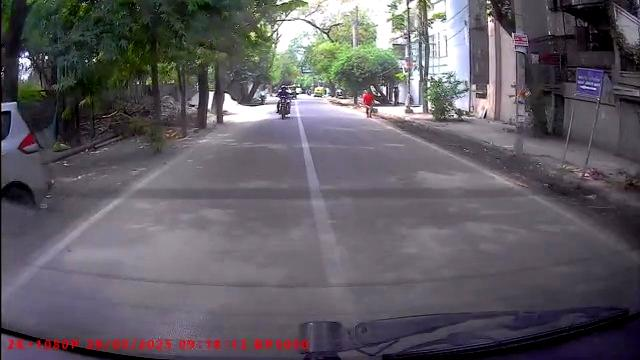motorcycle_with_helmet: (275, 81, 293, 120)
